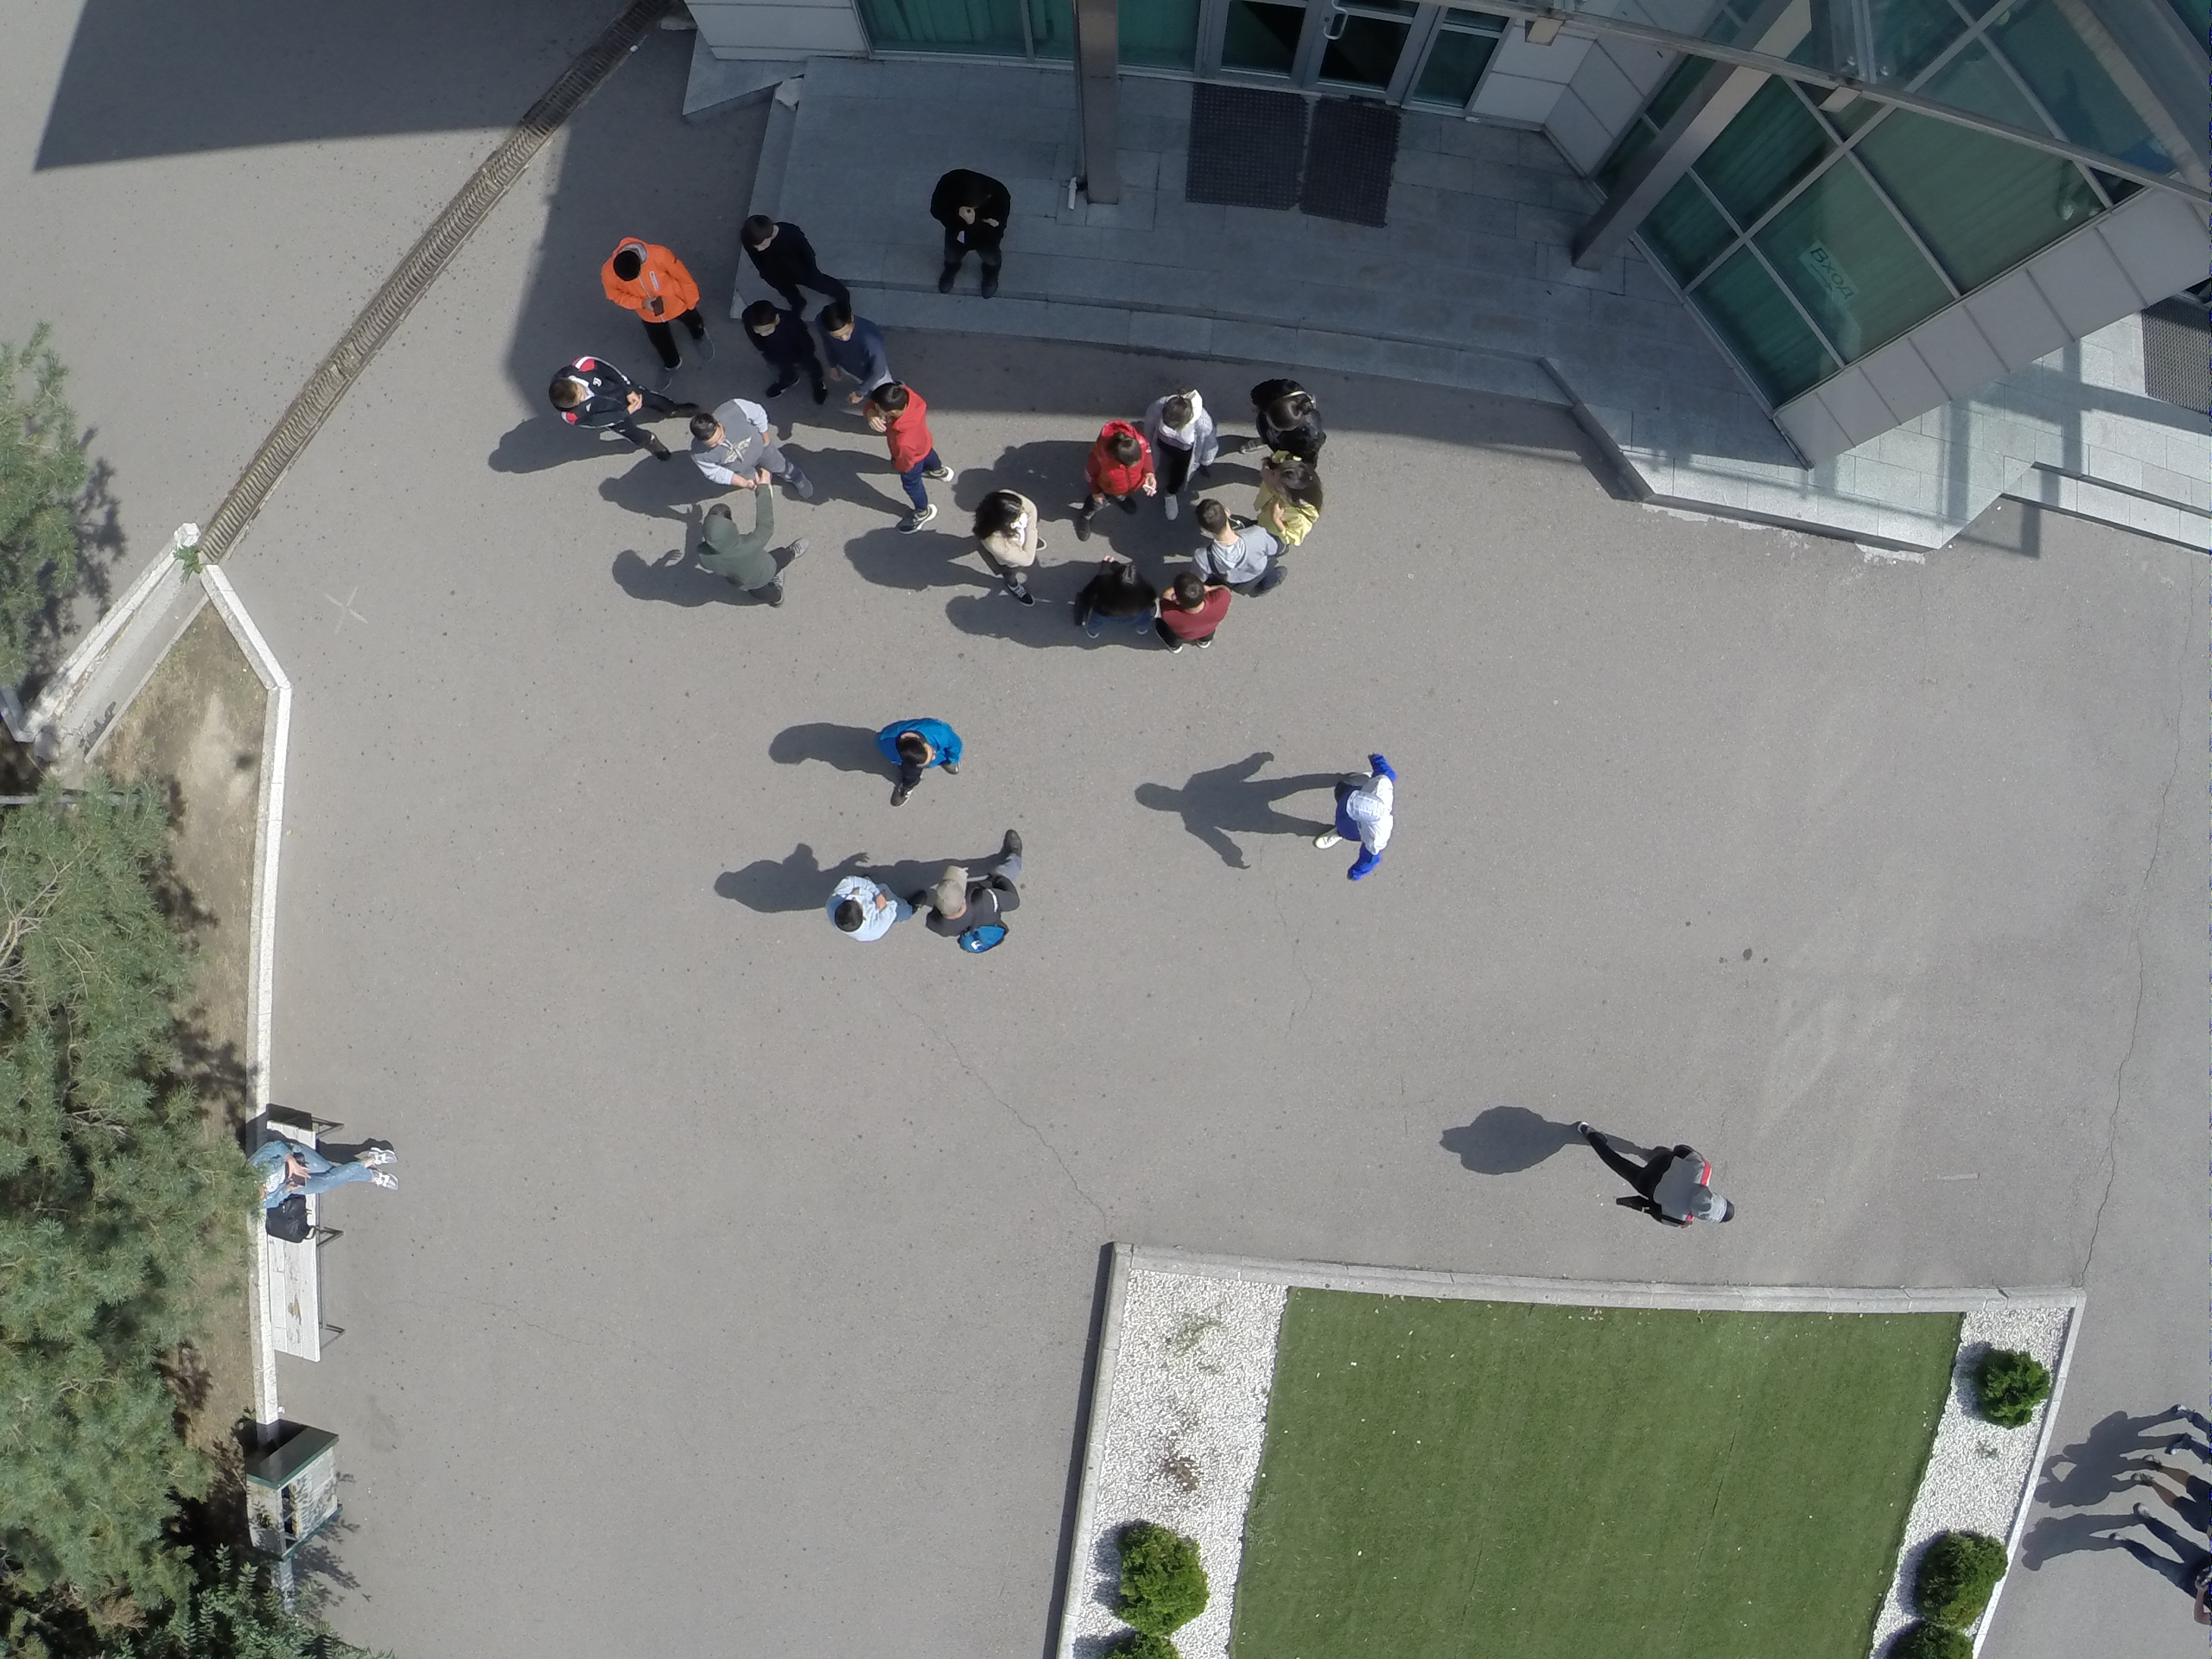person: (1570, 1117, 1733, 1246), (541, 350, 693, 473), (688, 476, 813, 619), (595, 234, 712, 367), (862, 375, 960, 534), (686, 388, 810, 493), (1313, 743, 1402, 882), (930, 828, 1026, 957), (931, 166, 1011, 302), (729, 290, 823, 405), (975, 480, 1052, 612), (738, 206, 847, 298), (246, 1132, 404, 1196), (1192, 495, 1296, 591), (1147, 386, 1215, 525), (817, 871, 930, 950), (1084, 414, 1154, 535), (1249, 450, 1333, 550), (877, 715, 963, 809), (817, 289, 893, 388), (1069, 551, 1154, 639), (1251, 373, 1325, 457), (1157, 569, 1229, 653)
